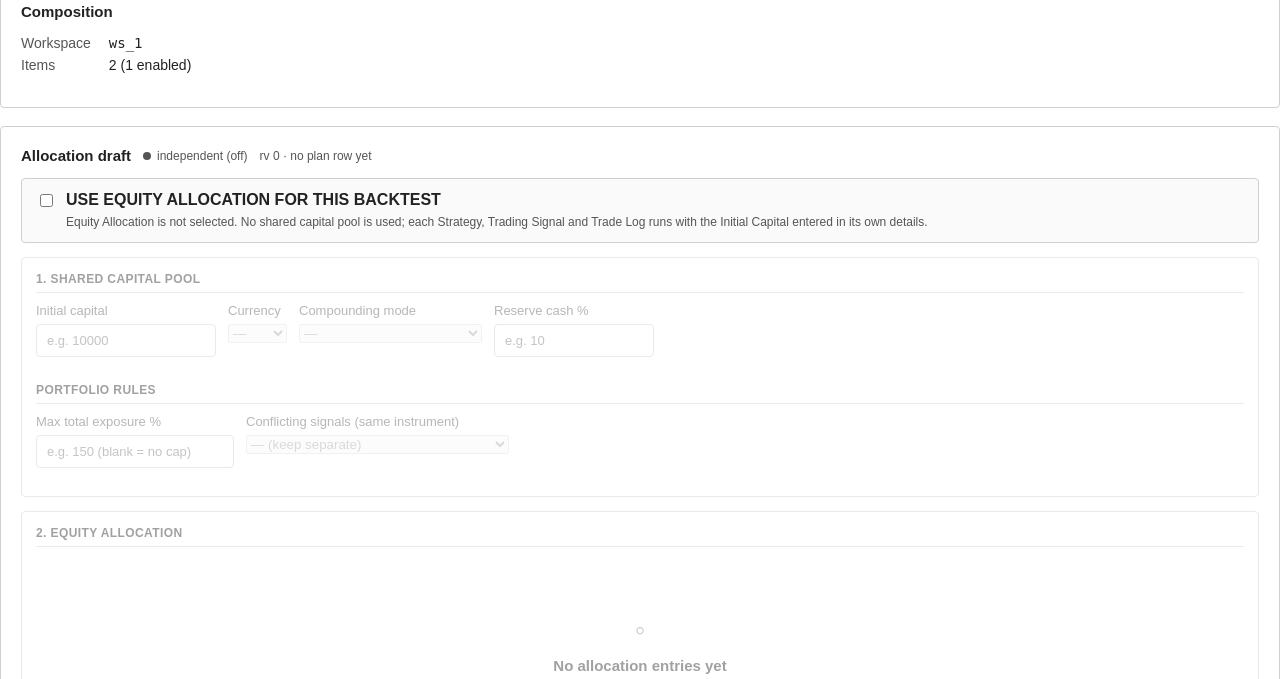
Portfolio / Equity Allocation page › saves the draft with the body-form OCC token and a fresh Idempotency-Key
Click the checkbox labelled "USE EQUITY ALLOCATION FOR THIS BACKTEST".
click(46, 200)  # box [40, 194, 53, 207]
(page scrolled)
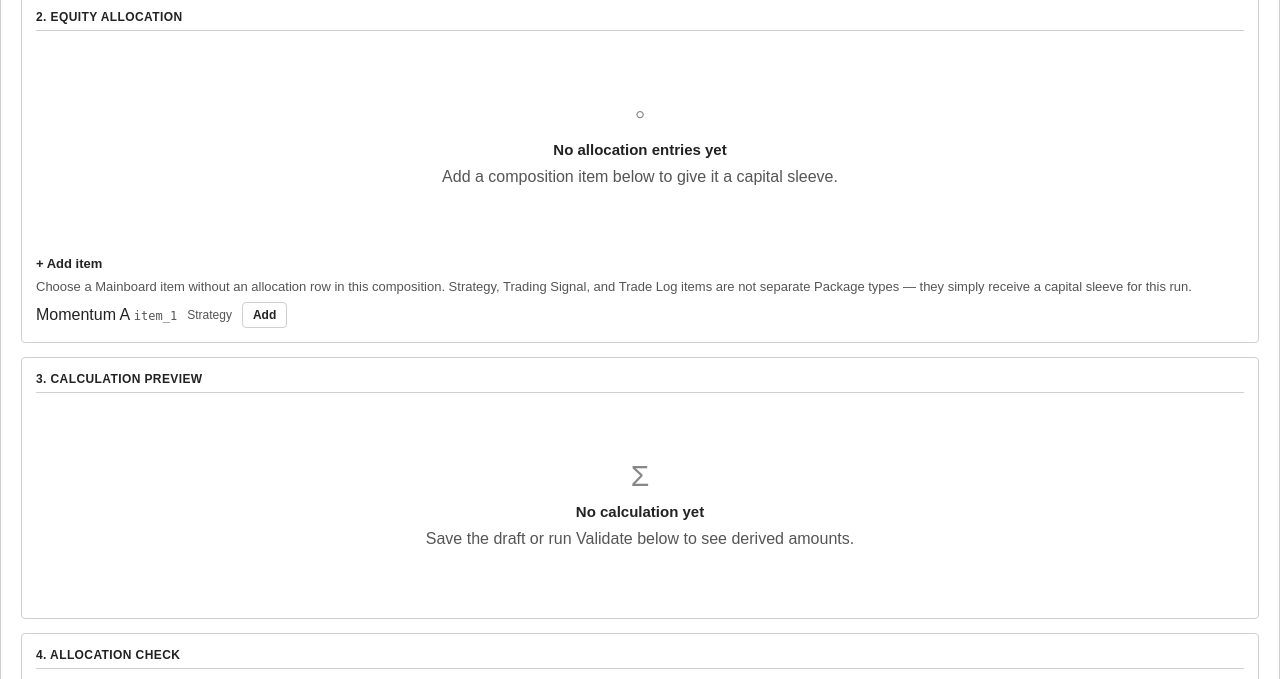
Click the button "Add".
click(265, 315)  # box [242, 302, 287, 328]
(page scrolled)
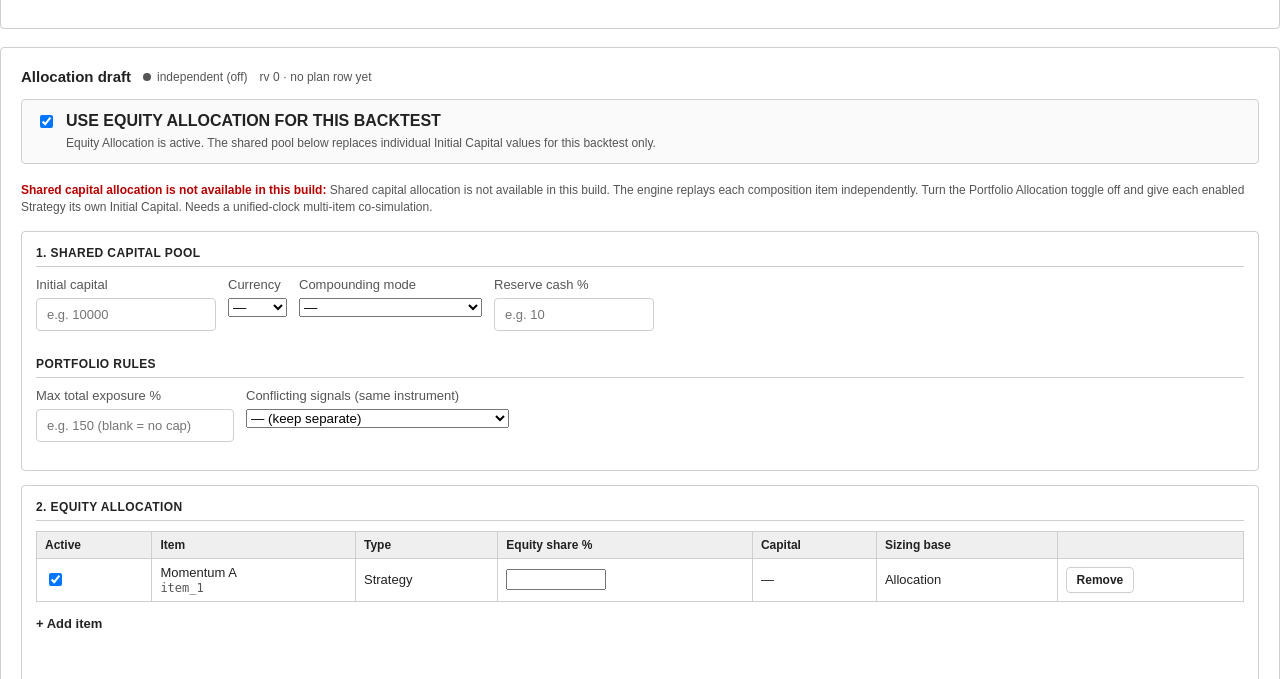
Type "10000" into the field labelled "Initial capital".
click(126, 314); type("10000")  # box [36, 298, 216, 331]
Select "USDT" in the dropdown labelled "Currency" at (258, 307), box [228, 298, 287, 317]
Select "Compound portfolio equity" in the dropdown labelled "Compounding mode" at (390, 307), box [299, 298, 482, 317]
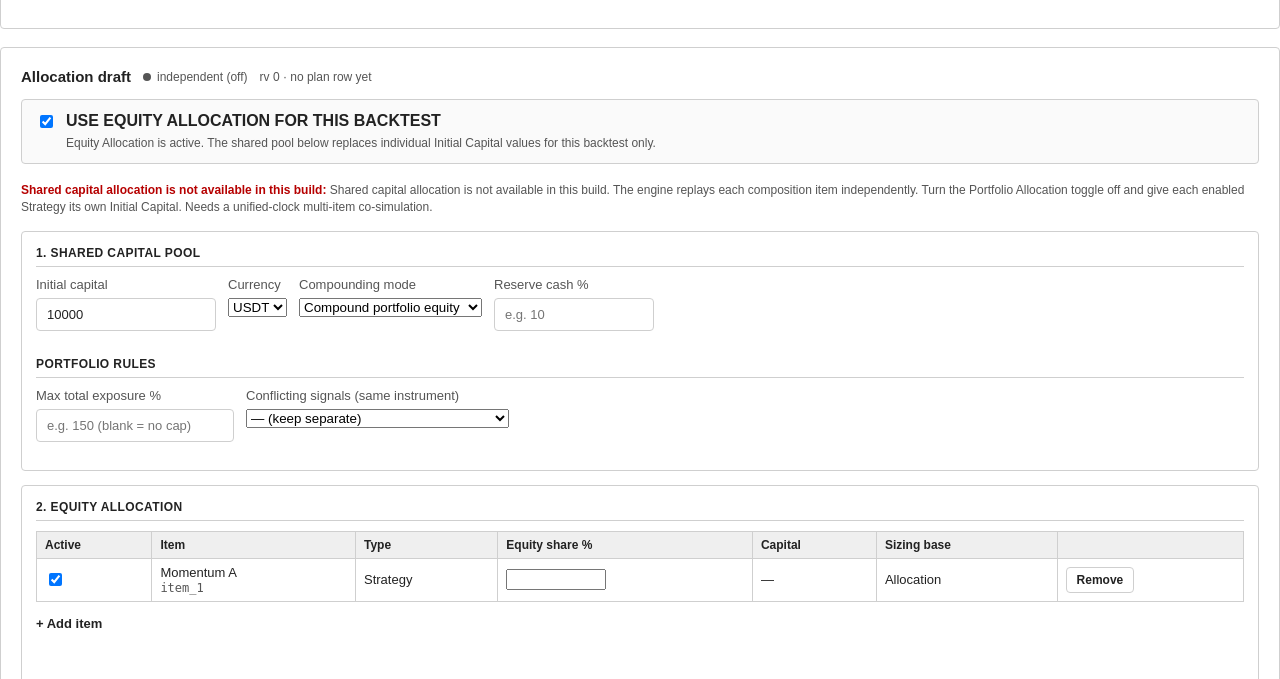
Type "10" into the field labelled "Reserve cash %".
click(574, 314); type("10")  # box [494, 298, 654, 331]
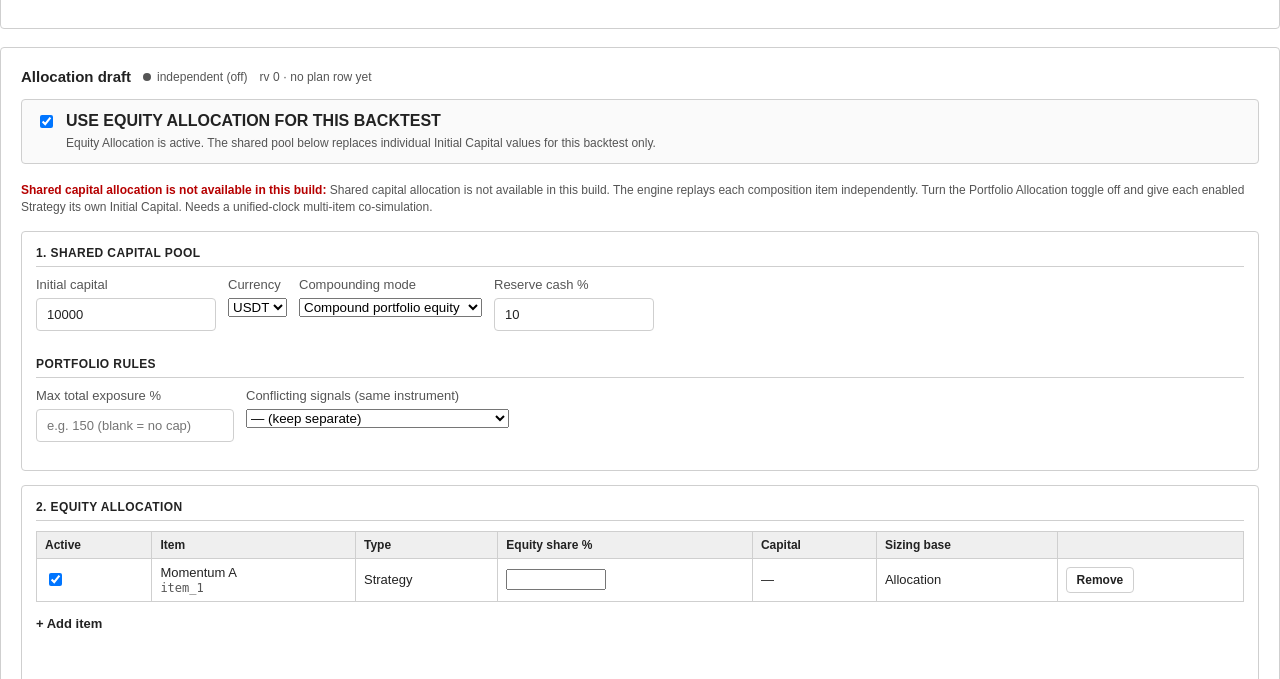
Type "90" into the field named "share item_1".
click(556, 580); type("90")  # box [506, 569, 606, 590]
(page scrolled)
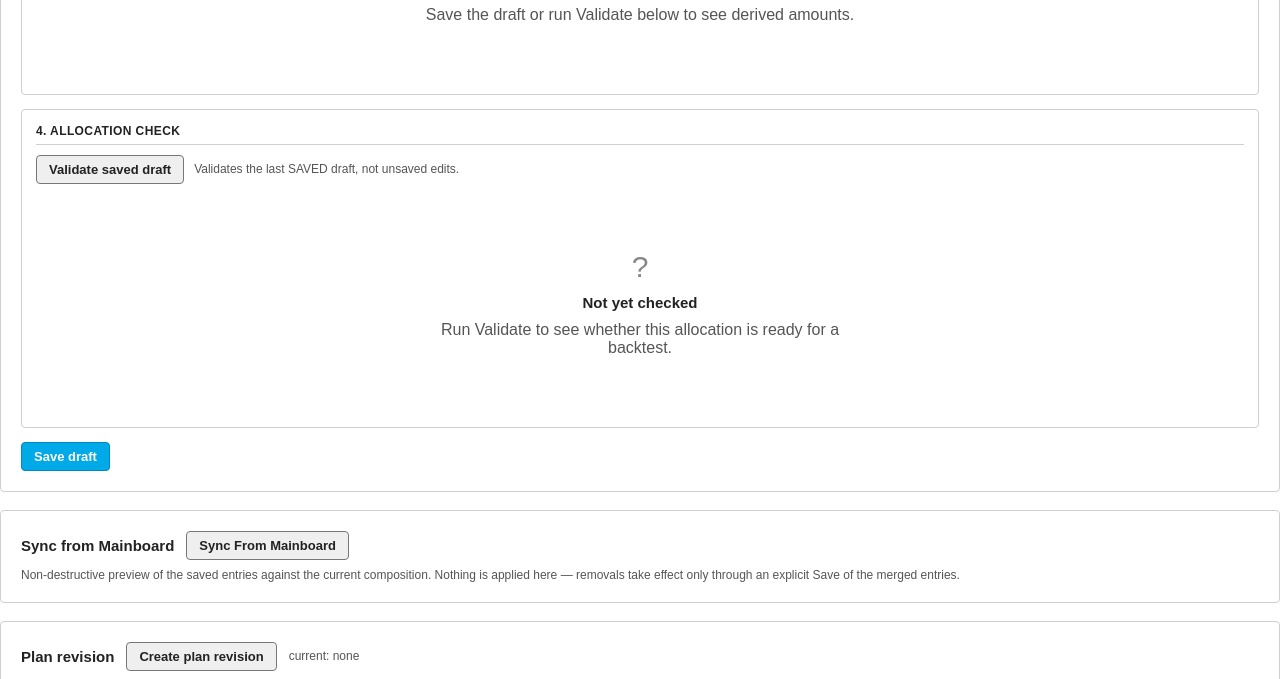
Click the button "Save draft".
click(65, 456)  # box [21, 442, 110, 471]
(page scrolled)
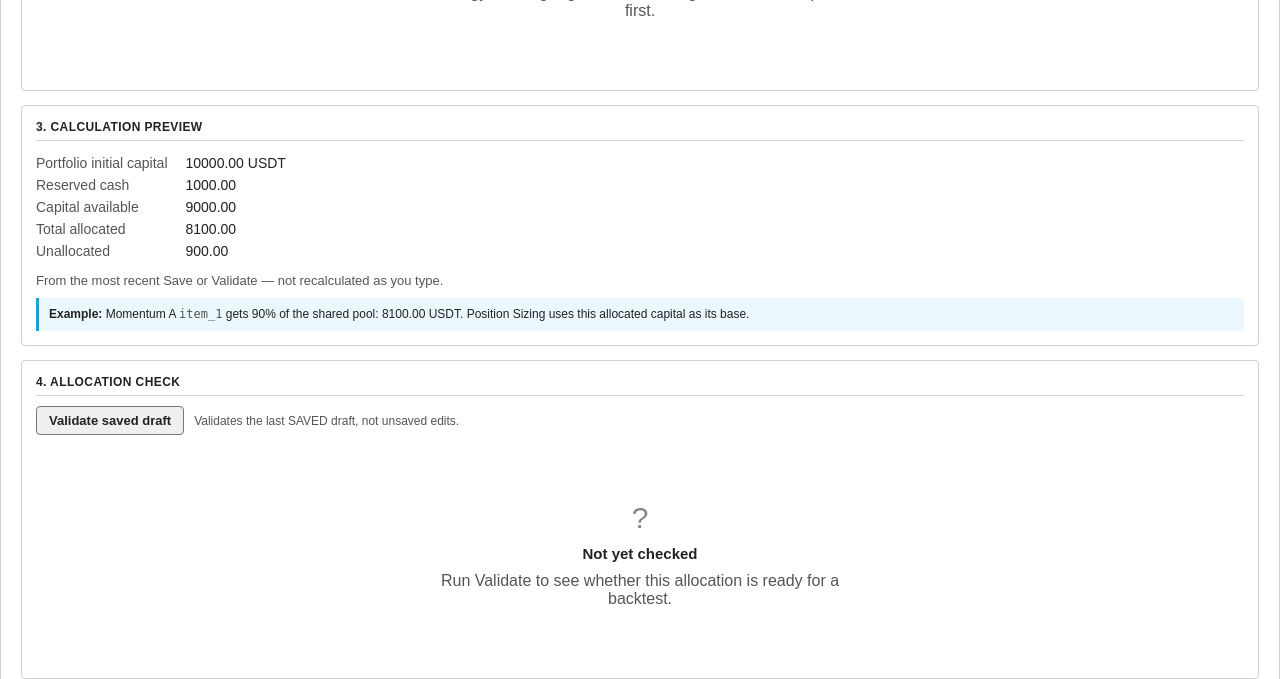
Now the text "9000.00" is shown, box [186, 199, 236, 215]
Now the text "8100.00" is shown, box [186, 221, 236, 237]
Now the text "gets 90% of the shared pool: 8100.00 USDT" is shown, box [36, 298, 1244, 331]
